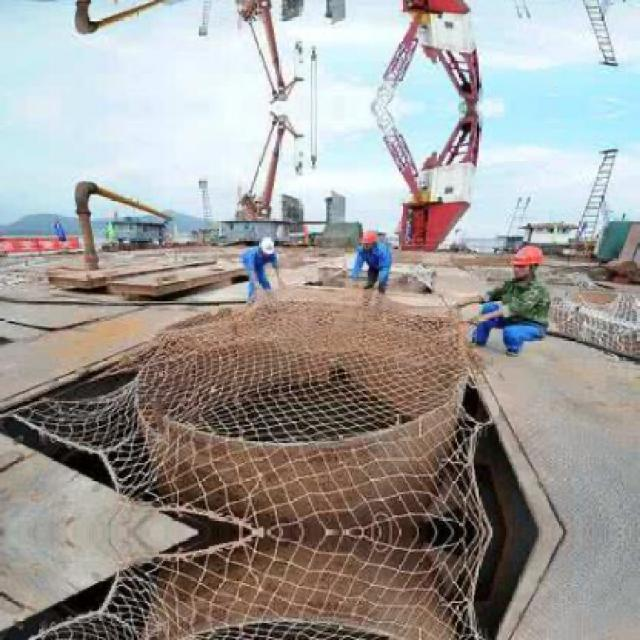helmet: (509, 243, 548, 277), (258, 235, 277, 257), (363, 230, 380, 252)
